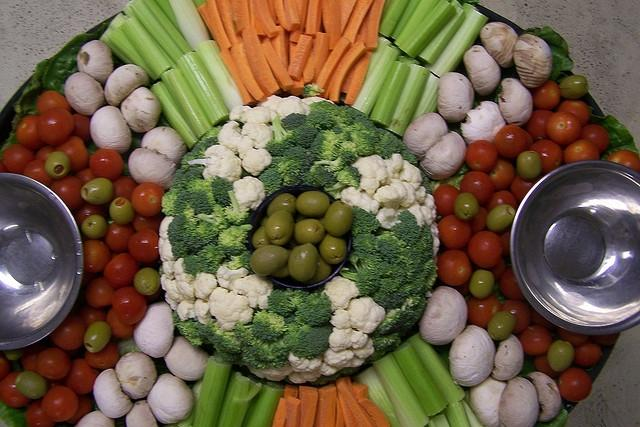broccoli: (166, 210, 220, 260), (284, 322, 333, 360), (292, 293, 334, 326), (196, 244, 242, 274), (172, 309, 205, 348), (339, 266, 380, 297), (242, 343, 288, 370), (266, 288, 310, 316), (252, 308, 287, 342), (391, 211, 425, 245), (374, 262, 408, 295), (371, 282, 414, 308), (323, 165, 362, 192), (376, 307, 414, 334), (250, 337, 290, 362), (369, 332, 402, 362), (196, 204, 229, 233), (350, 206, 380, 237), (306, 110, 344, 134), (214, 330, 242, 362), (403, 248, 428, 283), (186, 187, 217, 215), (170, 167, 204, 192), (301, 166, 339, 188), (374, 132, 406, 158), (288, 124, 320, 150), (310, 130, 340, 157), (218, 225, 249, 251), (350, 128, 377, 156), (376, 234, 402, 263), (352, 233, 382, 258), (212, 176, 234, 208), (258, 168, 282, 197), (161, 187, 184, 217), (351, 120, 380, 143), (416, 259, 438, 288), (397, 311, 421, 336), (173, 190, 196, 216), (281, 113, 307, 133), (330, 105, 354, 126), (309, 100, 339, 115), (338, 121, 354, 140)
carrot: (241, 26, 282, 97), (329, 40, 366, 104), (219, 48, 259, 106), (230, 42, 268, 102), (316, 36, 352, 90), (336, 379, 376, 427), (260, 41, 294, 91), (344, 50, 373, 106), (342, 0, 374, 47), (206, 0, 233, 52), (196, 3, 221, 52), (288, 34, 313, 81), (364, 0, 386, 51), (216, 0, 239, 45), (313, 383, 336, 427), (338, 377, 358, 427), (253, 1, 279, 38), (358, 397, 390, 427), (322, 0, 341, 50), (298, 386, 319, 427), (288, 0, 308, 43), (313, 32, 330, 82), (270, 26, 288, 72), (247, 0, 266, 37), (330, 381, 345, 427), (230, 0, 250, 34), (302, 36, 316, 84), (355, 6, 372, 45), (305, 0, 322, 38), (340, 1, 358, 36), (285, 396, 302, 427), (283, 0, 300, 31), (272, 398, 286, 427), (273, 0, 286, 30), (351, 382, 368, 400), (283, 384, 299, 398), (262, 34, 272, 44)
cauliflower: (341, 154, 436, 229), (188, 144, 242, 182), (208, 288, 254, 331), (344, 296, 386, 334), (232, 274, 274, 310), (322, 276, 360, 310), (232, 176, 266, 212), (172, 258, 196, 304), (188, 271, 221, 302), (248, 360, 294, 382), (328, 327, 368, 352), (240, 122, 274, 150), (241, 148, 273, 176), (217, 121, 243, 154), (276, 96, 310, 121), (216, 265, 248, 290), (288, 351, 324, 370), (324, 348, 356, 368), (245, 107, 278, 124), (193, 298, 214, 324), (348, 338, 375, 358), (164, 278, 185, 302), (329, 308, 351, 330), (316, 360, 345, 376), (158, 237, 176, 262), (229, 105, 253, 123), (256, 95, 282, 111), (430, 221, 440, 258), (159, 216, 174, 240), (301, 96, 334, 106), (165, 292, 180, 310), (300, 370, 322, 382), (162, 261, 175, 280), (288, 371, 306, 384), (424, 194, 434, 210)
celery: (404, 332, 466, 406), (423, 8, 489, 77), (126, 0, 194, 64), (371, 353, 429, 427), (392, 342, 448, 416), (176, 52, 230, 126), (160, 68, 214, 140), (195, 40, 244, 114), (123, 0, 176, 68), (350, 46, 401, 116), (150, 81, 200, 151), (399, 0, 457, 59), (384, 64, 430, 136), (119, 16, 172, 78), (417, 6, 468, 65), (368, 60, 412, 128), (353, 366, 401, 427), (106, 26, 158, 82), (192, 355, 232, 427), (216, 372, 262, 427), (394, 1, 440, 47), (169, 0, 210, 50), (408, 72, 439, 124), (246, 385, 284, 427), (362, 36, 391, 88), (99, 28, 137, 65), (390, 0, 422, 41), (378, 0, 411, 37), (155, 0, 185, 39), (443, 402, 471, 427), (460, 399, 484, 427), (109, 12, 128, 30), (428, 414, 450, 426)
lettuce: (42, 22, 111, 98), (520, 27, 574, 81), (586, 107, 640, 161), (14, 60, 51, 119), (534, 401, 570, 427), (0, 399, 29, 427)
mushroom: (448, 324, 496, 386), (420, 286, 468, 346), (419, 130, 466, 180), (147, 374, 194, 424), (133, 301, 174, 358), (512, 34, 554, 88), (402, 112, 448, 161), (460, 100, 507, 146), (498, 376, 540, 427), (163, 336, 210, 381), (115, 351, 158, 400), (104, 64, 149, 110), (128, 148, 176, 191), (93, 368, 134, 418), (462, 45, 502, 96), (90, 106, 132, 154), (437, 72, 475, 124), (524, 372, 562, 424), (468, 377, 508, 426), (141, 126, 187, 168), (121, 87, 162, 132), (479, 22, 518, 68), (498, 78, 534, 127), (64, 72, 104, 115), (76, 40, 114, 83), (491, 334, 523, 381), (125, 399, 158, 426), (74, 410, 116, 426)
tomato: (50, 312, 88, 351), (36, 107, 74, 145), (102, 252, 140, 289), (64, 357, 100, 396), (112, 286, 147, 325), (468, 231, 503, 269), (466, 292, 502, 328), (42, 386, 78, 422), (436, 250, 472, 286), (54, 136, 90, 172), (546, 110, 581, 146), (493, 124, 528, 160), (530, 139, 564, 176), (50, 175, 85, 210), (0, 372, 34, 408), (438, 214, 472, 250), (89, 148, 124, 182), (557, 368, 592, 402), (131, 182, 164, 218), (460, 172, 494, 206), (36, 348, 72, 380), (86, 277, 120, 309), (128, 228, 159, 262), (16, 115, 46, 150), (106, 176, 138, 208), (466, 140, 498, 172), (105, 221, 136, 254), (520, 325, 554, 355), (484, 156, 514, 190), (499, 265, 527, 301), (509, 174, 542, 204), (66, 390, 95, 424), (83, 239, 111, 274), (530, 79, 561, 110), (578, 124, 610, 154), (3, 144, 35, 174), (106, 307, 136, 339), (502, 300, 530, 334), (26, 398, 58, 427), (84, 321, 112, 354), (86, 342, 120, 369), (526, 110, 554, 142), (22, 160, 55, 187), (433, 185, 460, 218), (563, 140, 600, 164), (556, 101, 590, 127), (487, 311, 516, 341), (473, 257, 505, 283), (22, 342, 48, 372), (604, 150, 639, 172), (38, 89, 70, 113), (132, 212, 164, 235), (484, 190, 516, 212), (68, 114, 92, 142), (531, 308, 557, 333), (558, 327, 590, 347), (575, 344, 603, 366), (76, 205, 104, 226), (468, 207, 489, 233), (82, 308, 106, 328), (590, 332, 621, 346), (74, 168, 98, 186), (36, 144, 56, 162), (0, 351, 10, 380)
